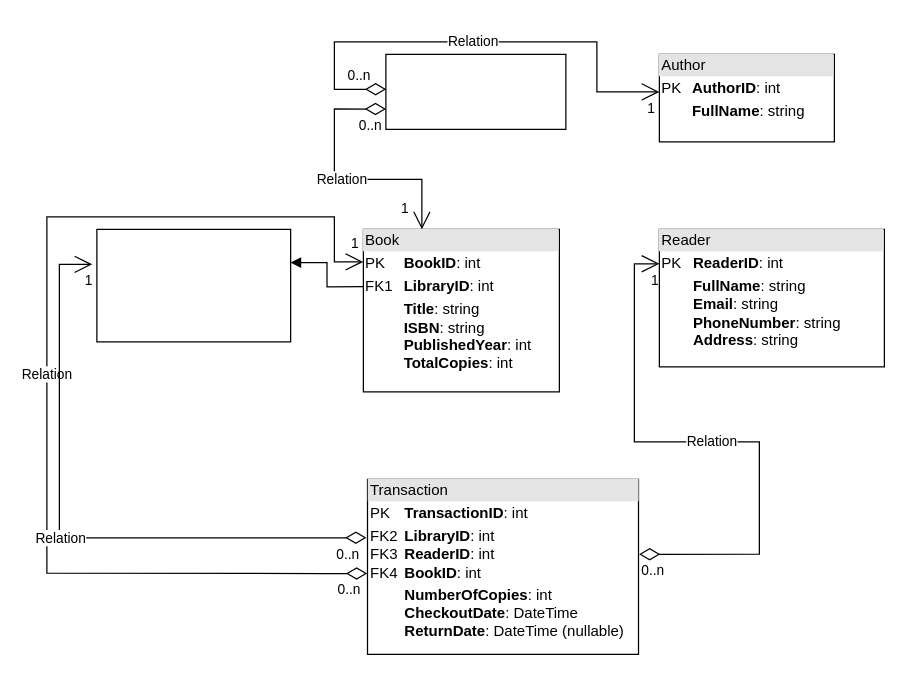
This 906x676 diagram has some shape labels left out. The shapes that lost their labels are listed below. From the top down, each one's box as (x1, y1, x2, y2) in pixels, then its label:
(385, 53, 566, 129): BookAuthor PK, FK5 PK, FK6 AuthorID : int BookID : int
(96, 228, 291, 342): Library PK LibraryID : int Name : string Location : string PhoneNumber : string
